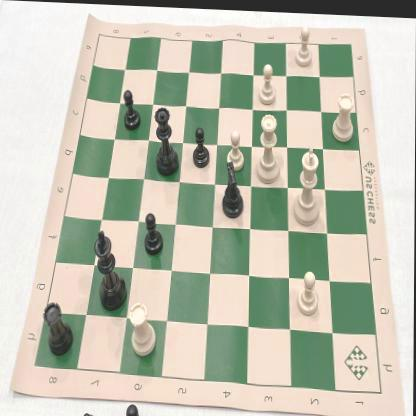black-king: (96, 226, 127, 312)
black-knight: (219, 158, 246, 218)
black-pawn: (142, 210, 165, 253), (122, 86, 143, 130), (192, 124, 212, 167)
black-queen: (153, 102, 180, 176)
black-rook: (43, 298, 72, 358)
white-king: (293, 142, 322, 226)
white-pawn: (297, 265, 321, 316), (258, 60, 278, 106), (294, 22, 313, 66), (226, 127, 245, 170)
white-queen: (254, 110, 282, 182)
white-rook: (130, 298, 158, 357), (330, 87, 358, 141)
